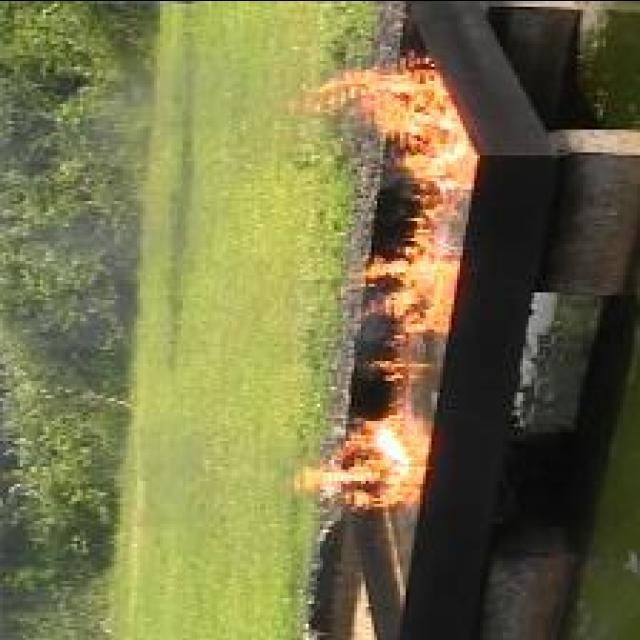Fire: (289, 48, 477, 334), (287, 401, 427, 508), (362, 330, 408, 393)
